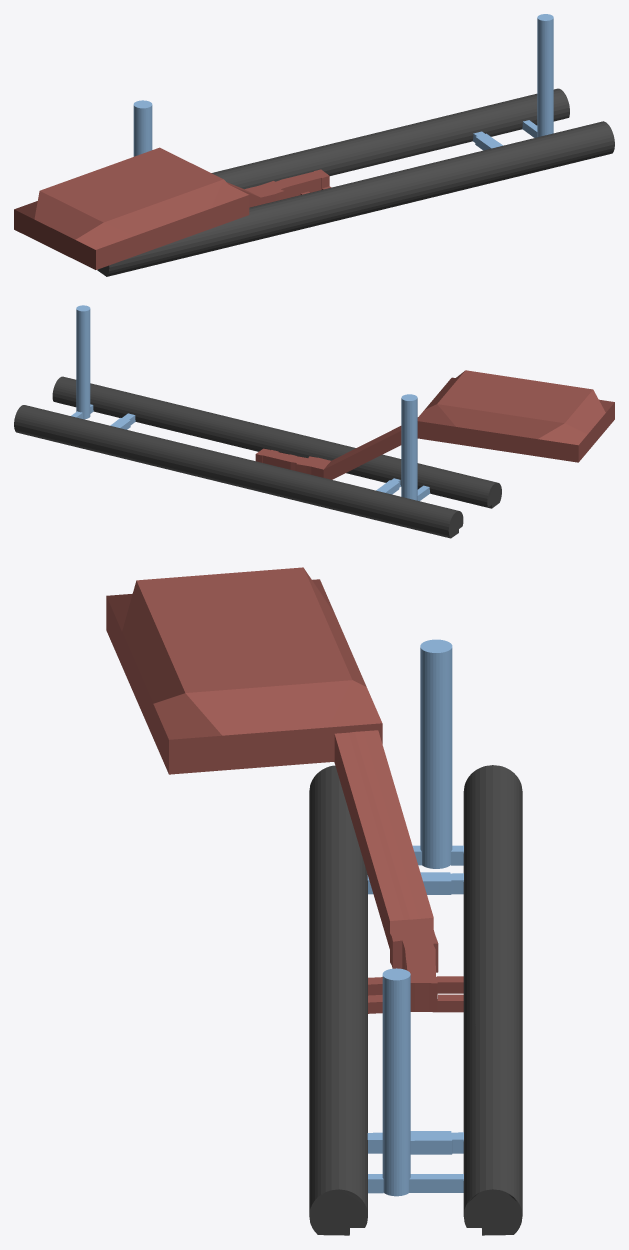
3 renders of one model, top to bottom at view 1: azimuth 30°, elevation 25°; view 2: azimuth 150°, elevation 25°; view 3: azimuth 270°, elevation 25°, orthographic. The views are drawn at different scales.
Visible parts, largest first — view 1: TicketHall, PLT1, PLT2, 12, Concourse, 24; view 2: PLT2, TicketHall, PLT1, 24, 12, ESC, Concourse; view 3: TicketHall, PLT2, PLT1, ESC, 12, 24, Concourse, 34, 44.
Part boxes in pixels (x1,y1,x2,y2): TicketHall: (14, 147, 249, 269); PLT1: (97, 121, 614, 276); PLT2: (211, 88, 569, 189); 12: (522, 14, 553, 137); Concourse: (244, 169, 329, 204); 24: (133, 100, 152, 156); PLT2: (14, 405, 463, 538); TicketHall: (417, 370, 614, 462); PLT1: (52, 376, 501, 508); 24: (401, 394, 430, 501); 12: (71, 305, 93, 419); ESC: (323, 426, 401, 479); Concourse: (255, 448, 330, 477); TicketHall: (106, 567, 382, 774); PLT2: (463, 765, 522, 1235); PLT1: (309, 765, 367, 1235); ESC: (334, 730, 433, 948); 12: (368, 968, 463, 1196); 24: (412, 639, 463, 868); Concourse: (390, 917, 438, 1012); 34: (367, 1131, 463, 1154); 44: (367, 872, 463, 894).
Bounding box in the file's own units: 186 × 38.67 × 65.05.
